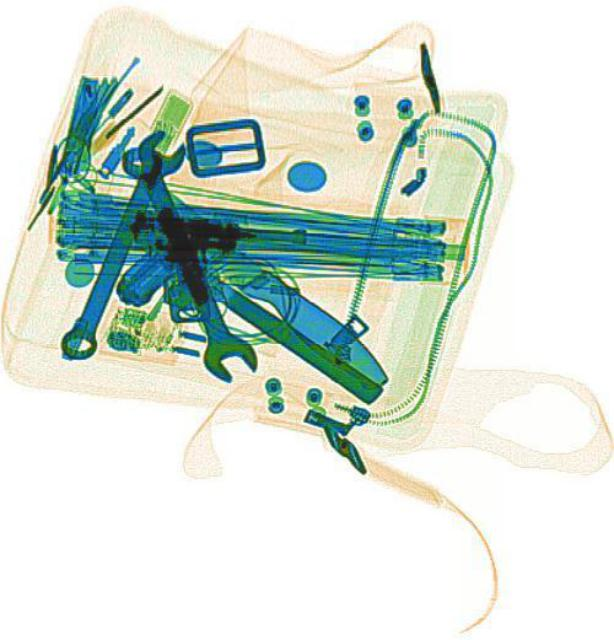Gun: (129, 205, 308, 302)
Knife: (131, 168, 392, 398), (138, 226, 378, 404)
Wrench: (108, 136, 259, 384), (43, 122, 190, 364)
